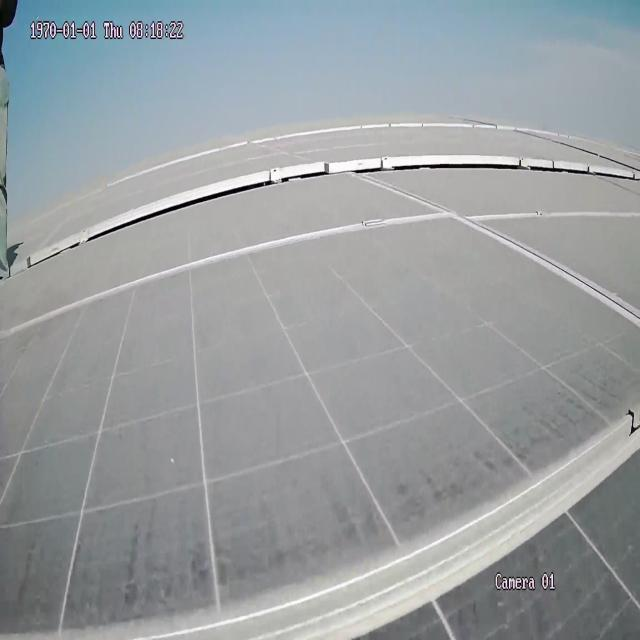interior panel: (8, 401, 639, 640), (2, 173, 636, 340)
